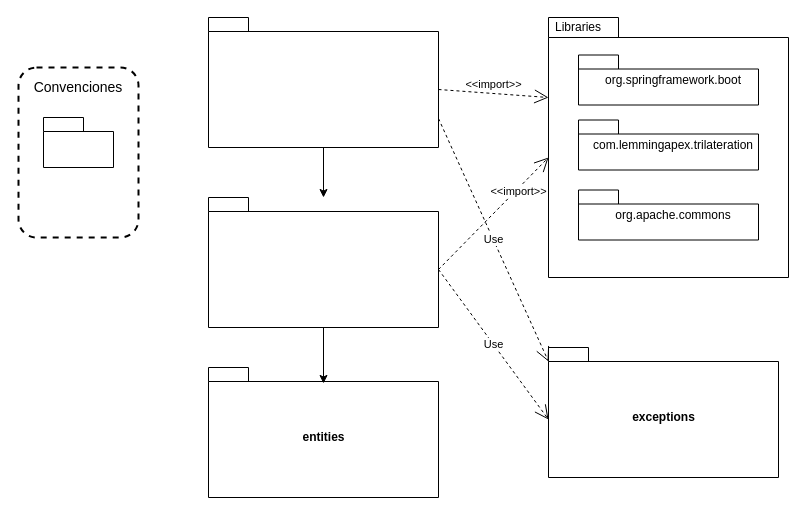
Some shapes in this 806 by 515 pixel diagram are drawn without their labels. Each missing label, with the box of its shape:
controller: (208, 16, 438, 148)
package: (42, 116, 114, 168)
services: (208, 196, 438, 328)
